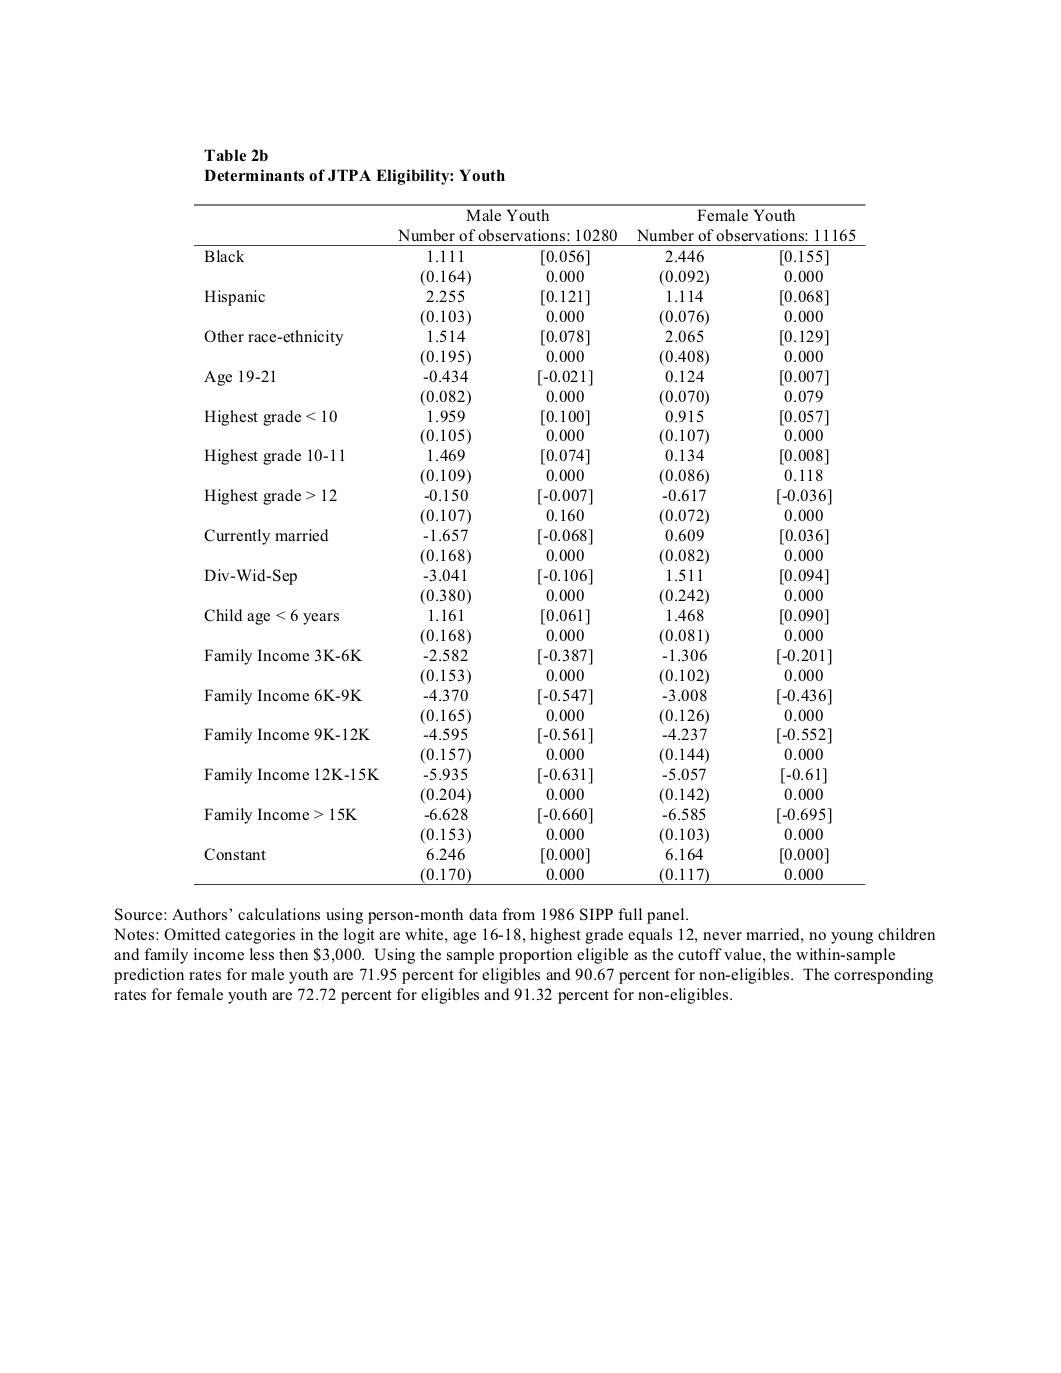Table: (194, 204, 865, 884)
